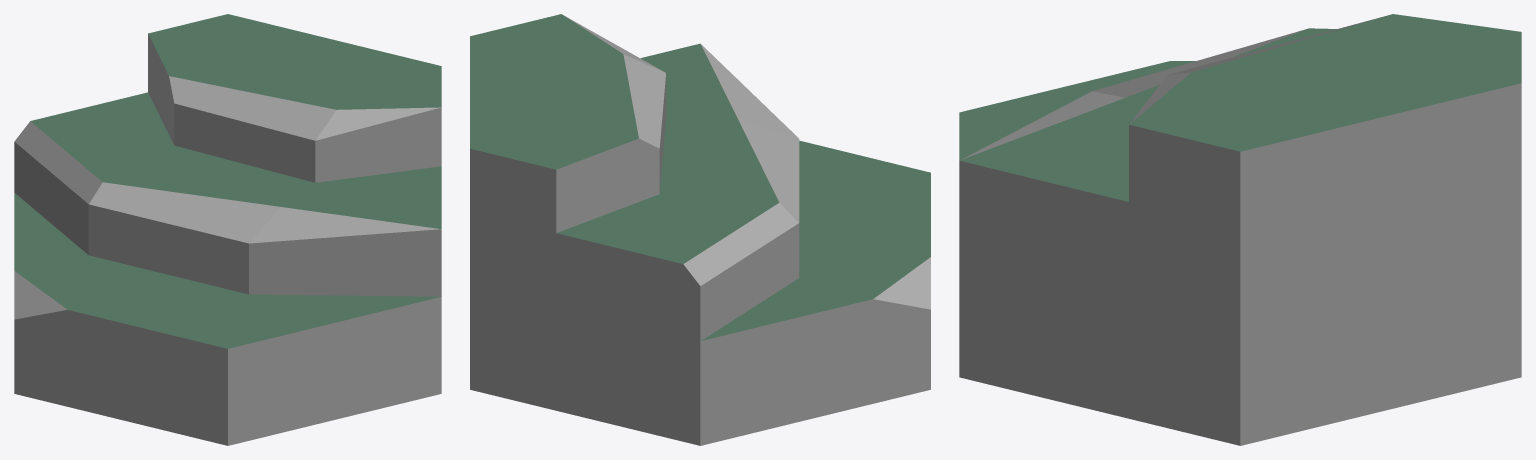
The model's file is HexStairs02.fbx.
3 views of the same model, side by side, from view 1: azimuth 30°, elevation 25°; view 2: azimuth 150°, elevation 25°; view 3: azimuth 270°, elevation 25° (orthographic). The views are drawn at different scales.
Parts seen in each view (by area): view 1: HexStairs02; view 2: HexStairs02; view 3: HexStairs02.
Part boxes in pixels (x1,y1,x2,y2): HexStairs02: (14, 14, 441, 445); HexStairs02: (470, 14, 930, 445); HexStairs02: (959, 14, 1521, 445).
Bounding box in the file's own units: 2 × 1 × 1.73.
